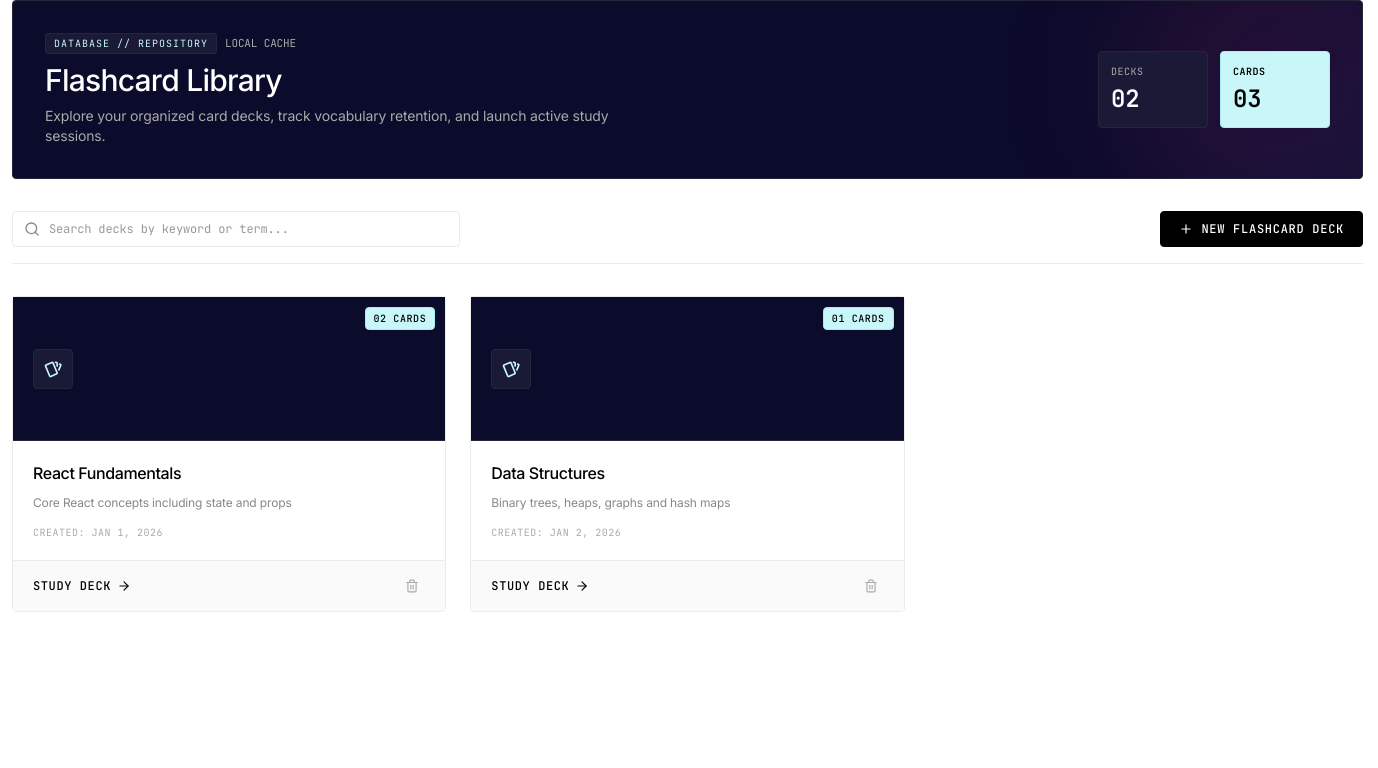
Test: MyFlashcards component › filters decks based on search query
Type "React" into the field with placeholder "Search decks by keyword or term...".
click(236, 229); type("React")  # box [12,211,460,247]
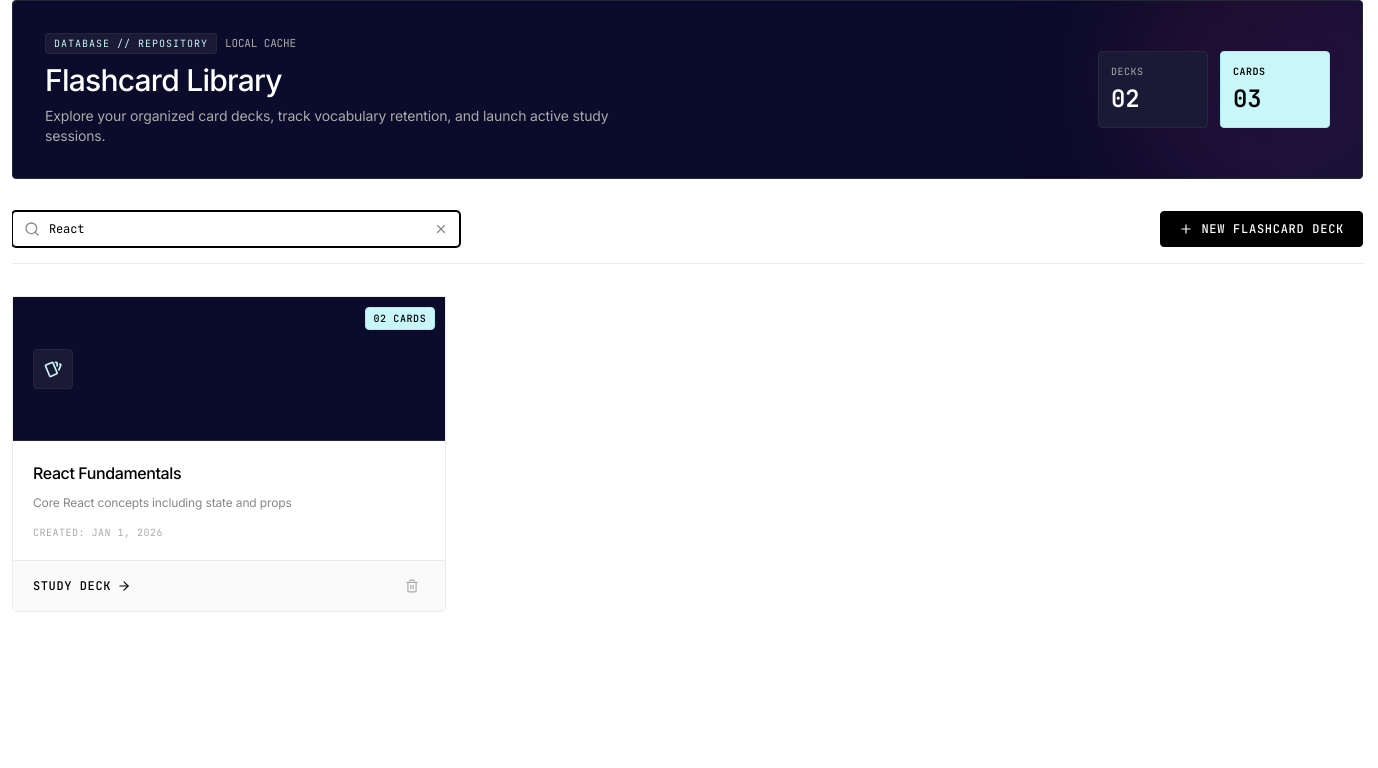
Expected: the link "React Fundamentals" is shown, [33,463,181,483]
Expected: the link "Data Structures" is gone
